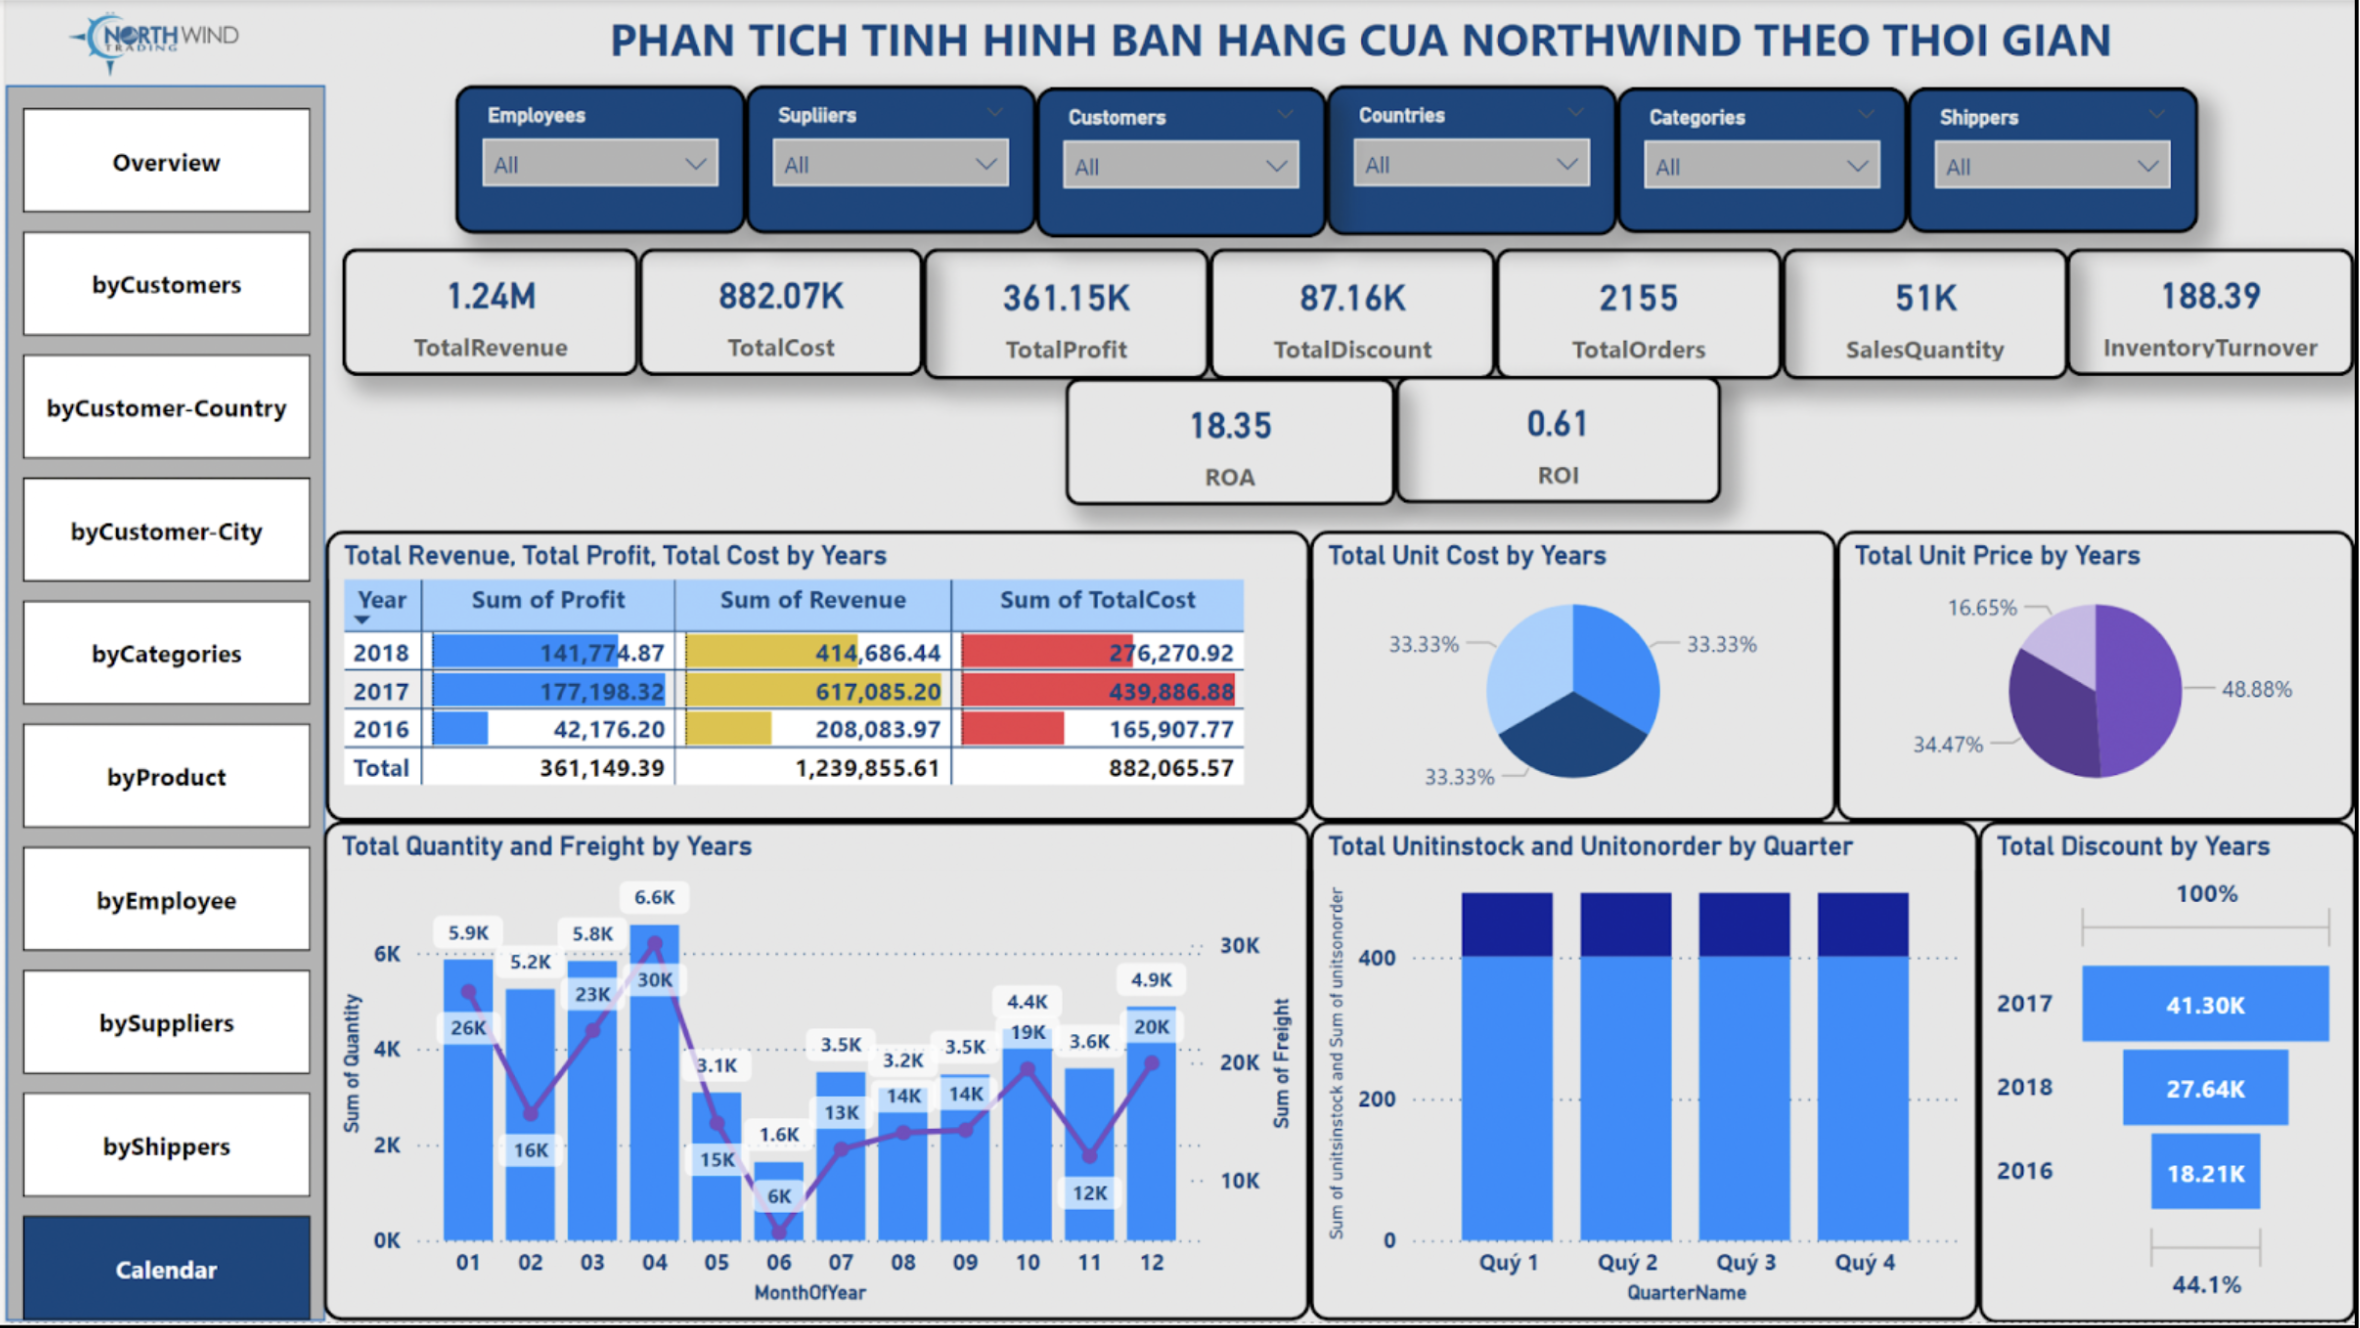

The dashboard page shown, as its layout file describes it:
{"tool":"powerbi","page":{"name":"Calendar","canvas":[1280,720],"ordinal":9},"visuals":[{"type":"card","fields":{"Values":["FactOrders.TotalRevenue"]},"box":[183.3,135.5,161.7,69.5],"z":0},{"type":"card","fields":{"Values":["FactOrders.TotalProfit"]},"box":[499.9,135.5,156,71.7],"z":1000},{"type":"card","fields":{"Values":["Sum(FactOrders.TotalCost)"]},"box":[345.1,135.5,154.9,69.5],"z":2000},{"type":"card","fields":{"Values":["FactOrders.TotalDiscount"]},"box":[655.9,135.5,156,71.7],"z":3000},{"type":"card","fields":{"Values":["FactOrders.InventoryTurnover"]},"box":[1122.8,135.5,157.2,69.5],"z":4000},{"type":"card","fields":{"Values":["Sum(FactOrders.Quantity)"]},"box":[968,135.5,156,71.7],"z":5000},{"type":"pivotTable","title":"Total Revenue, Total Profit, Total Cost by Years","fields":{"Rows":["Calendar.Year"],"Values":["Sum(FactOrders.Profit)","Sum(FactOrders.Revenue)","Sum(FactOrders.TotalCost)"]},"box":[174.2,289.3,536.4,158.3],"z":6000},{"type":"textbox","box":[206.1,0,1064.8,47.8],"z":7000},{"type":"card","fields":{"Values":["CountNonNull(FactOrders.OrderID)"]},"box":[812,135.5,156,71.7],"z":8000},{"type":"image","box":[9.1,0,157.2,47.8],"z":9000},{"type":"shape","box":[0,46.7,174.2,673],"z":10000},{"type":"pageNavigator","box":[9.1,59.2,157.2,660.5],"z":11000},{"type":"slicer","title":"Total Profit by Employees","fields":{"Values":["employees.fullname"]},"box":[244.3,47.3,158.3,80.9],"z":12000},{"type":"slicer","title":"Total Profit by Employees","fields":{"Values":["suppliers.companyname"]},"box":[402.6,47.3,158.3,80.9],"z":13000},{"type":"slicer","title":"Total Profit by Employees","fields":{"Values":["customers.contactname"]},"box":[719.1,47.3,158.3,82],"z":14000},{"type":"slicer","title":"Total Profit by Employees","fields":{"Values":["categories.categoryname"]},"box":[877.4,48.4,158.3,79.7],"z":15000},{"type":"slicer","title":"Total Profit by Employees","fields":{"Values":["shippers.companyname"]},"box":[1035.7,48.4,158.3,79.7],"z":16000},{"type":"funnel","title":"Total Discount by Years","fields":{"Y":["Sum(FactOrders.DiscountAmount)"],"Category":["Calendar.Year"]},"box":[1075,447.5,206.1,273.3],"z":17000},{"type":"slicer","title":"Total Profit by Employees","fields":{"Values":["customers.contactname"]},"box":[561.4,47.8,158.3,82],"z":18000},{"type":"card","fields":{"Values":["FactOrders.ROI"]},"box":[757.3,205,177.7,69.5],"z":19000},{"type":"card","fields":{"Values":["FactOrders.ROA"]},"box":[577.9,206.1,179.9,69.5],"z":20000},{"type":"pieChart","title":"Total Unit Cost by Years","fields":{"Y":["Sum(products.unitcost)"],"Category":["Calendar.Year"]},"box":[710.6,289.3,287,158.3],"z":21000},{"type":"columnChart","title":"Total Unitinstock and Unitonorder by Quarter","fields":{"Category":["Calendar.QuarterName"],"Y":["Sum(products.unitsinstock)","Sum(products.unitsonorder)"]},"box":[710.6,447.5,364.4,272.2],"z":22000},{"type":"lineStackedColumnComboChart","title":"Total Quantity and Freight by Years","fields":{"Y":["Sum(FactOrders.Quantity)"],"Y2":["Sum(FactOrders.Freight)"],"Category":["Calendar.MonthOfYear"]},"box":[173.1,447.5,537.5,272.2],"z":23000},{"type":"pieChart","title":"Total Unit Cost by Years","fields":{"Category":["Calendar.Year"],"Y":["Sum(FactOrders.UnitPrice)"]},"box":[997.6,289.3,282.4,158.3],"z":24000}]}

Visuals, with their boxes in screenshot pixels (x1, y1, x2, y2), scaled from the page's 1280x720 canvas onto the 2360x1328 screenshot:
card - FactOrders.TotalRevenue: 338, 250, 636, 378
card - FactOrders.TotalProfit: 922, 250, 1209, 382
card - Sum(FactOrders.TotalCost): 636, 250, 922, 378
card - FactOrders.TotalDiscount: 1209, 250, 1497, 382
card - FactOrders.InventoryTurnover: 2070, 250, 2359, 378
card - Sum(FactOrders.Quantity): 1785, 250, 2072, 382
"Total Revenue, Total Profit, Total Cost by Years" pivotTable: 321, 534, 1310, 826
textbox: 380, 0, 2343, 88
card - CountNonNull(FactOrders.OrderID): 1497, 250, 1785, 382
image: 17, 0, 307, 88
shape: 0, 86, 321, 1327
pageNavigator: 17, 109, 307, 1327
"Total Profit by Employees" slicer: 450, 87, 742, 236
"Total Profit by Employees" slicer: 742, 87, 1034, 236
"Total Profit by Employees" slicer: 1326, 87, 1618, 238
"Total Profit by Employees" slicer: 1618, 89, 1910, 236
"Total Profit by Employees" slicer: 1910, 89, 2201, 236
"Total Discount by Years" funnel: 1982, 825, 2359, 1327
"Total Profit by Employees" slicer: 1035, 88, 1327, 239
card - FactOrders.ROI: 1396, 378, 1724, 506
card - FactOrders.ROA: 1066, 380, 1397, 508
"Total Unit Cost by Years" pieChart: 1310, 534, 1839, 826
"Total Unitinstock and Unitonorder by Quarter" columnChart: 1310, 825, 1982, 1327
"Total Quantity and Freight by Years" lineStackedColumnComboChart: 319, 825, 1310, 1327
"Total Unit Cost by Years" pieChart: 1839, 534, 2359, 826
